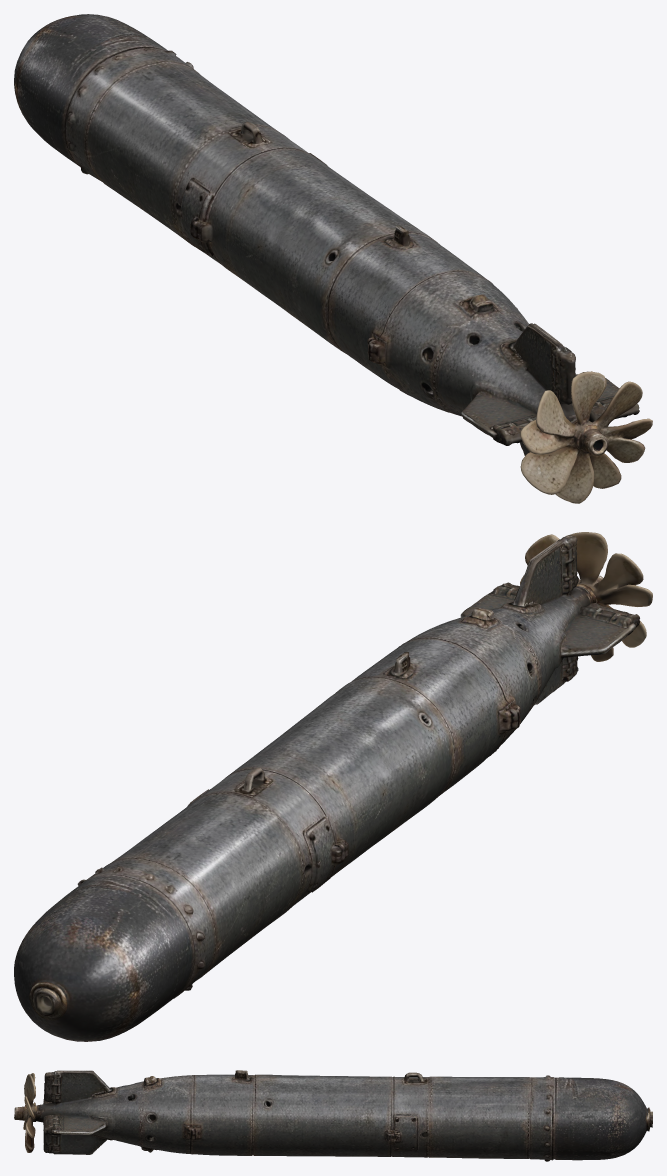
The model's file is weapon.torpedo.glb.
3 views of the same model, one above another, from view 1: azimuth 30°, elevation 25°; view 2: azimuth 150°, elevation 25°; view 3: azimuth 270°, elevation 25° (orthographic). The views are drawn at different scales.
Parts seen in each view (by area): view 1: tripo_node_b377c368-dfd3-427a-ab6f-9dc2a63ef772; view 2: tripo_node_b377c368-dfd3-427a-ab6f-9dc2a63ef772; view 3: tripo_node_b377c368-dfd3-427a-ab6f-9dc2a63ef772.
Part boxes in pixels (<box>): tripo_node_b377c368-dfd3-427a-ab6f-9dc2a63ef772: <box>14,14,652,503</box>; tripo_node_b377c368-dfd3-427a-ab6f-9dc2a63ef772: <box>14,532,652,1041</box>; tripo_node_b377c368-dfd3-427a-ab6f-9dc2a63ef772: <box>14,1070,652,1161</box>.
Bounding box in the file's own units: 0.6421 × 0.6003 × 4.09.
Materials: 1 (1 with a texture image).
